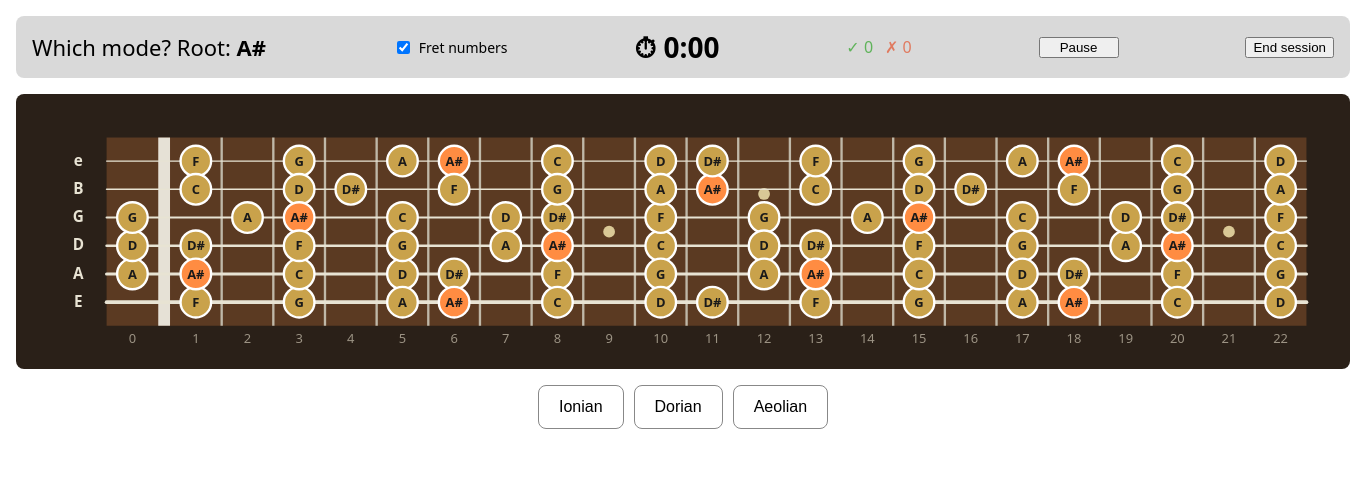
Scenario: SessionScreen — identify-mode › records an answer when a mode button is clicked
Click the button with class "choice" showing "Ionian": (581, 407) [538, 385, 624, 429]
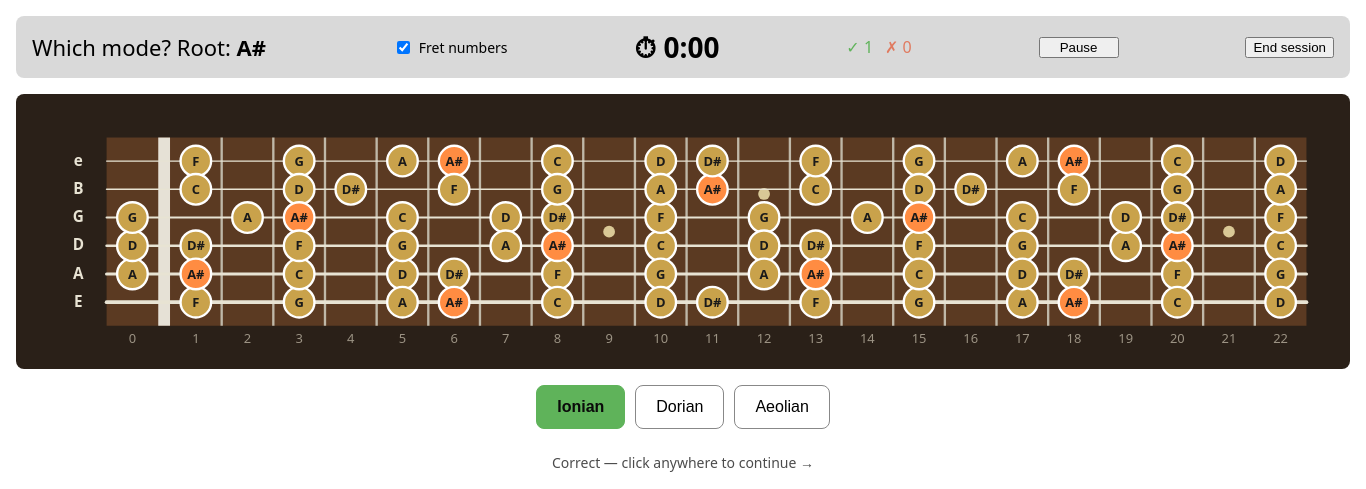
Expected: the button with class "choice" showing "Ionian" is disabled, [536, 385, 625, 429]
